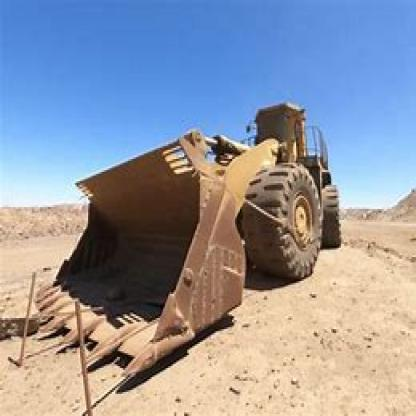bull_dozer/loader/grader: (24, 92, 354, 376)
